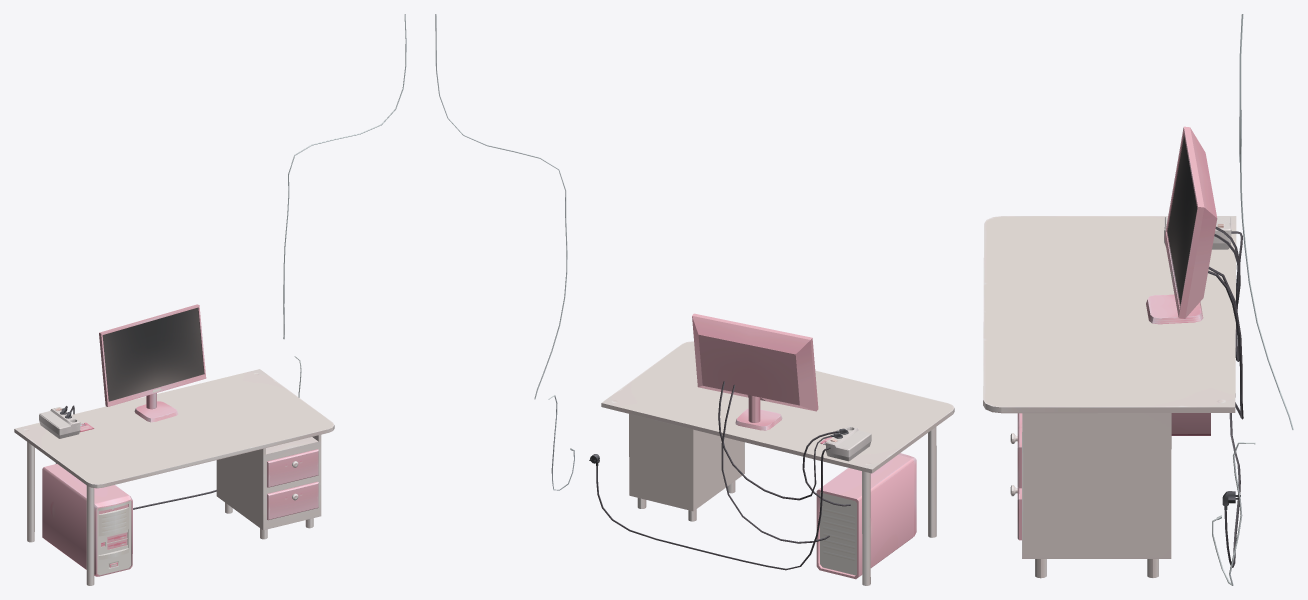
Rendered from desk_computer.fbx.
3 renders of one model, left to right at view 1: azimuth 30°, elevation 25°; view 2: azimuth 150°, elevation 25°; view 3: azimuth 270°, elevation 25°, orthographic. The views are drawn at different scales.
Parts seen in each view (by area): view 1: mesh_244.003, mesh_417.003, mesh_416.001, mesh_544.002, mesh_521.002; view 2: mesh_244.003, mesh_416.001, mesh_417.003, mesh_521.002; view 3: mesh_244.003, mesh_417.003, mesh_521.002, mesh_544.002, mesh_416.001.
Boxes of the visible parts, x1,y1,x2,y2 form: mesh_244.003: (14,369,334,585); mesh_417.003: (99,304,206,422); mesh_416.001: (39,407,132,576); mesh_544.002: (102,308,204,401); mesh_521.002: (56,14,406,509); mesh_244.003: (601,341,954,585); mesh_416.001: (589,426,916,579); mesh_417.003: (692,313,818,430); mesh_521.002: (435,14,850,570); mesh_244.003: (983,216,1236,578); mesh_417.003: (1146,126,1217,324); mesh_521.002: (1208,14,1293,585); mesh_544.002: (1166,133,1197,307); mesh_416.001: (1164,216,1240,509).
Size of the model in its own units: 198 by 207 by 84.64.
Materials: 5 (4 with a texture image).
